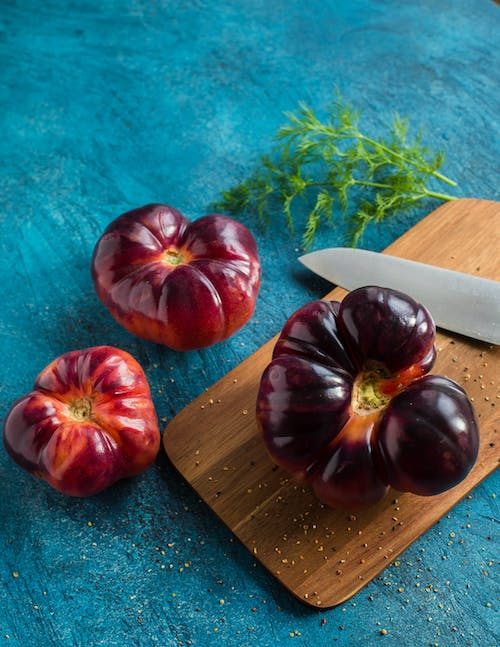knife: (297, 244, 500, 347)
